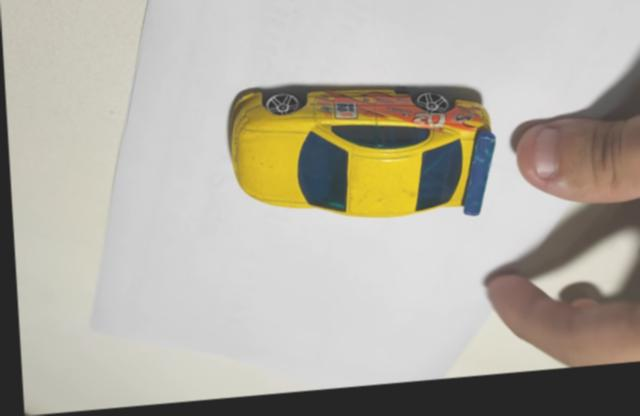02_OZSOME: (225, 90, 494, 225)
